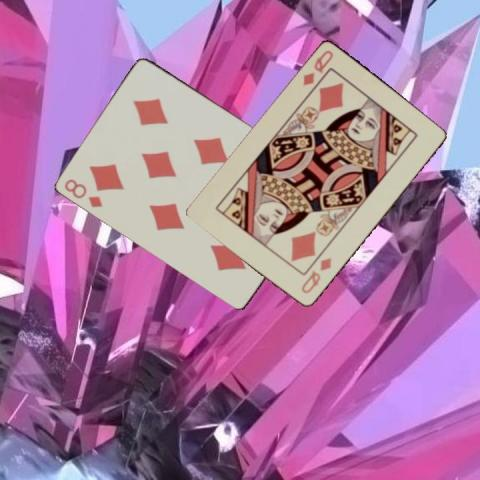8d: (61, 176, 105, 210)
Qd: (298, 253, 333, 295), (299, 47, 335, 86)
